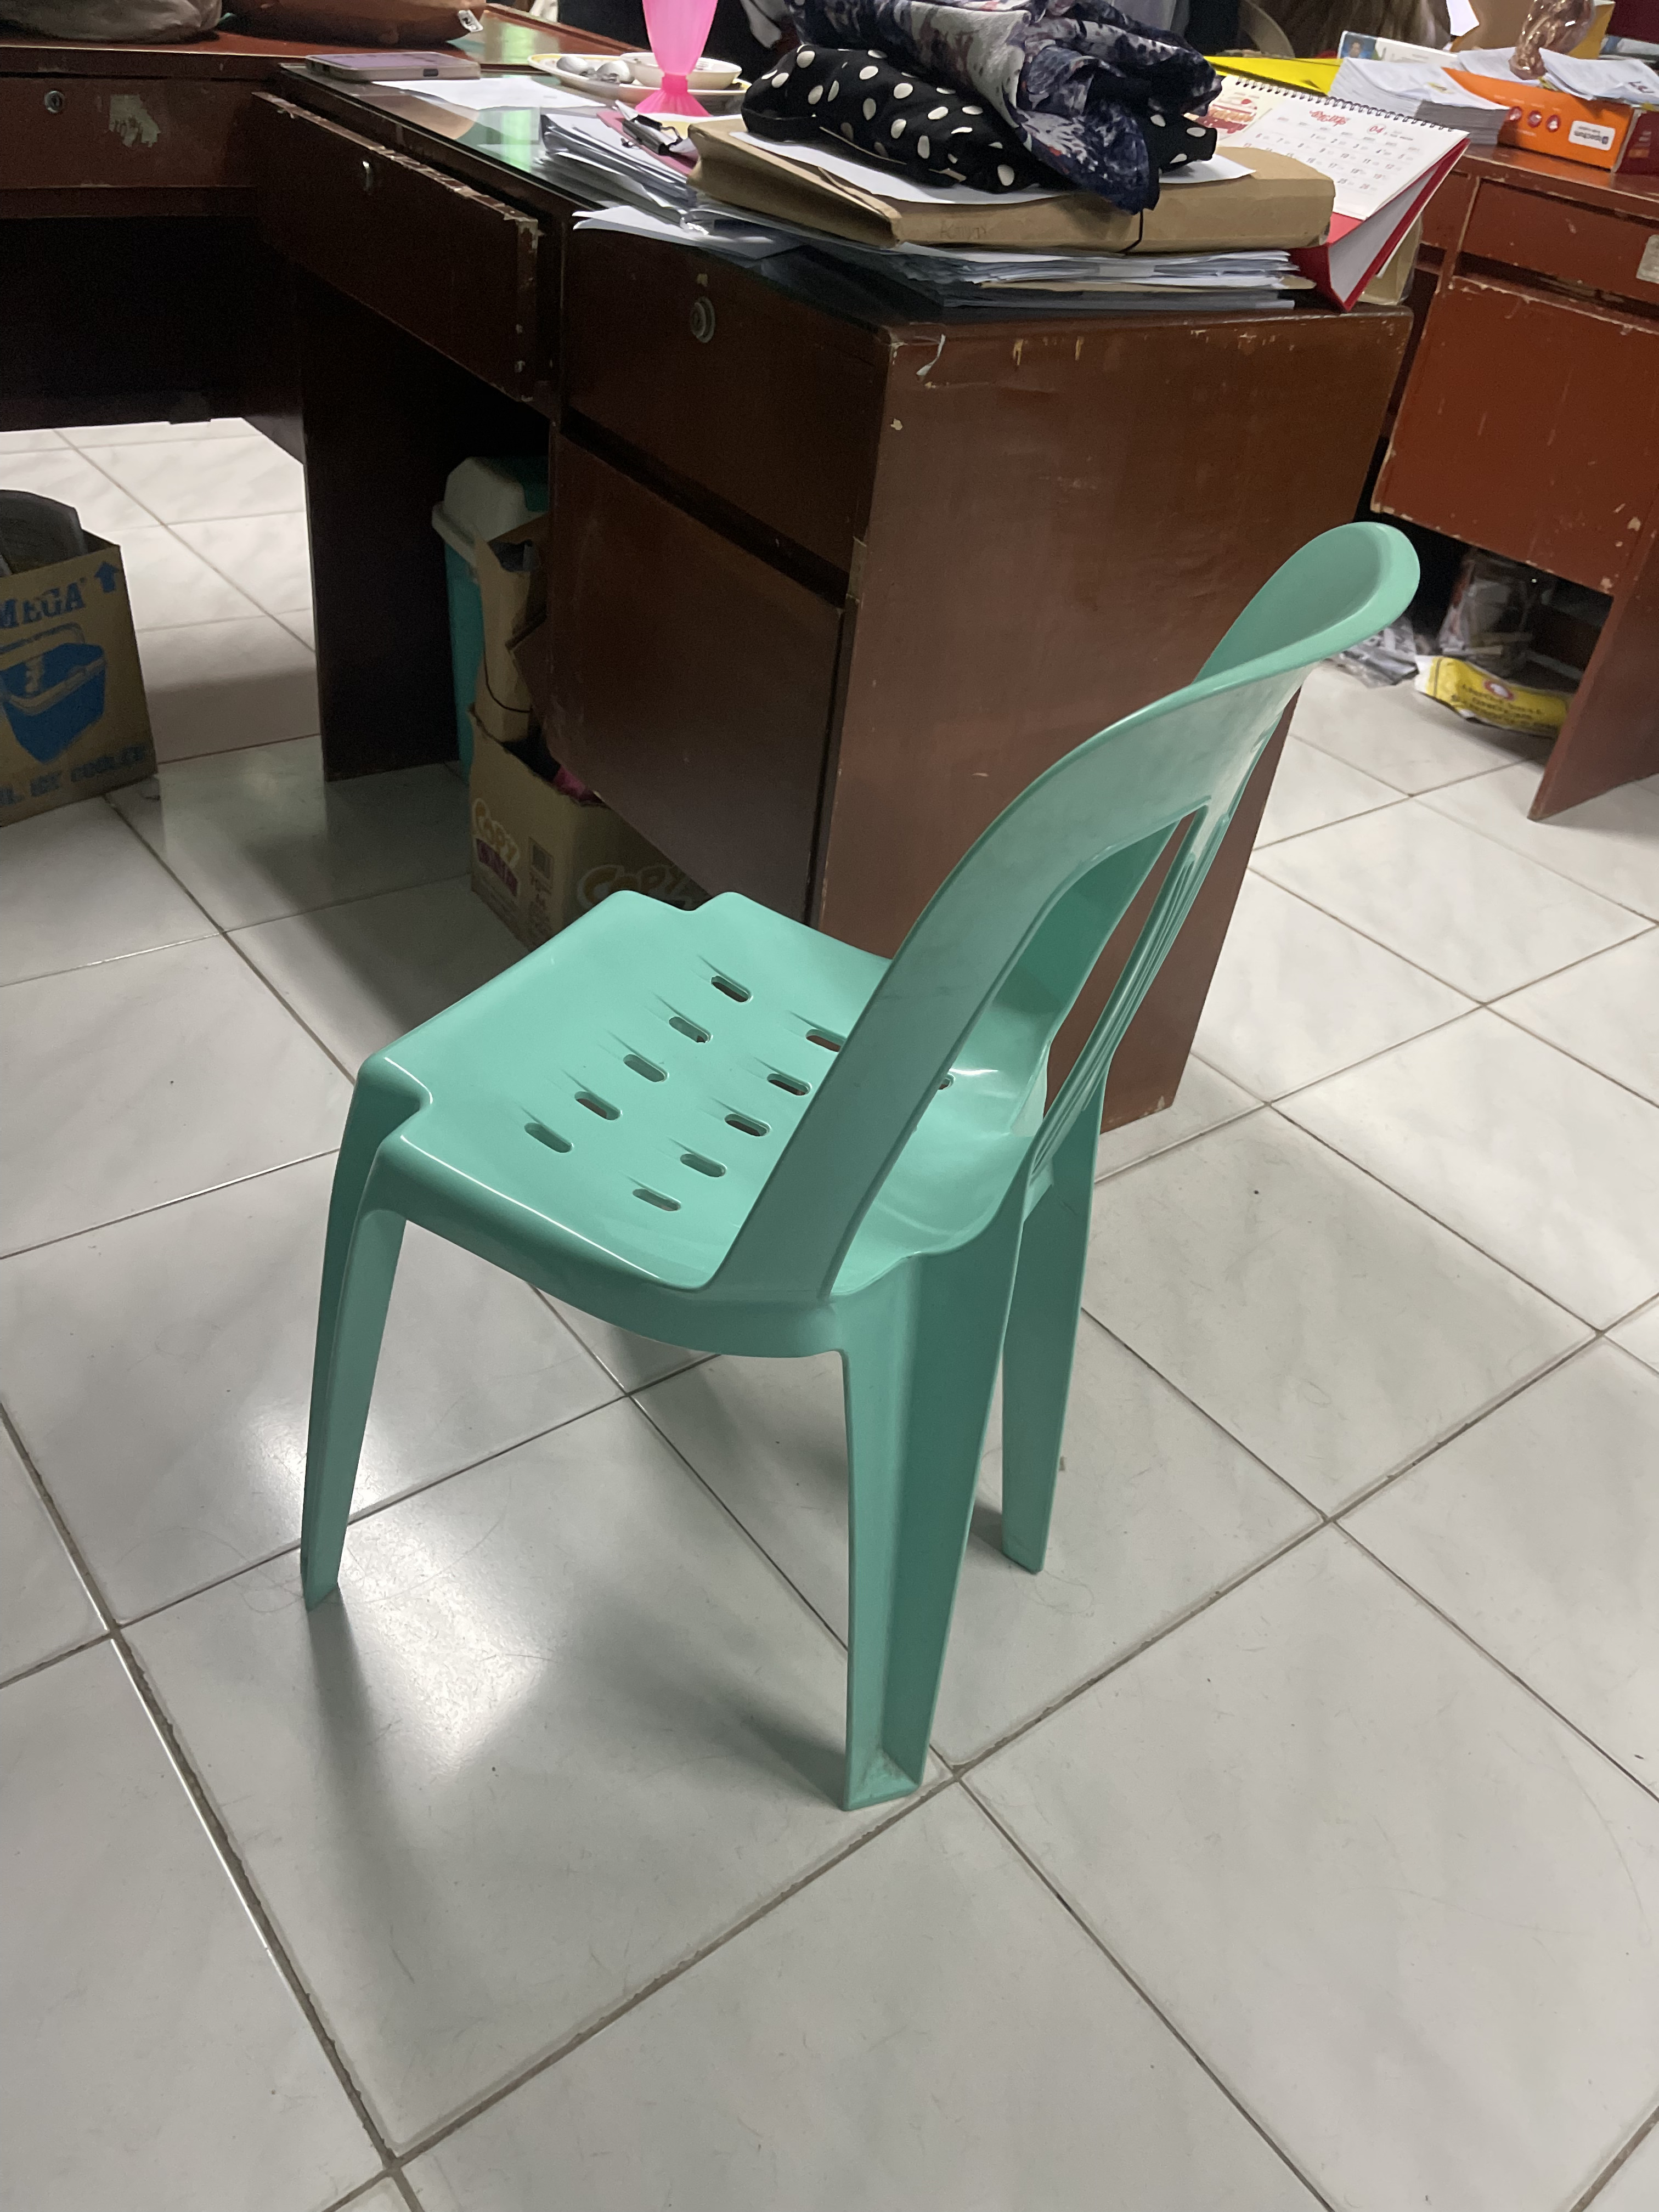chair2: (298, 517, 1417, 1919)
